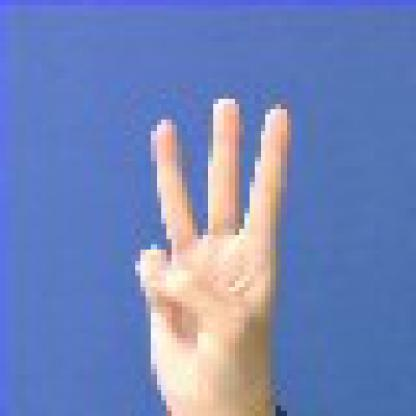three: (126, 87, 309, 416)
